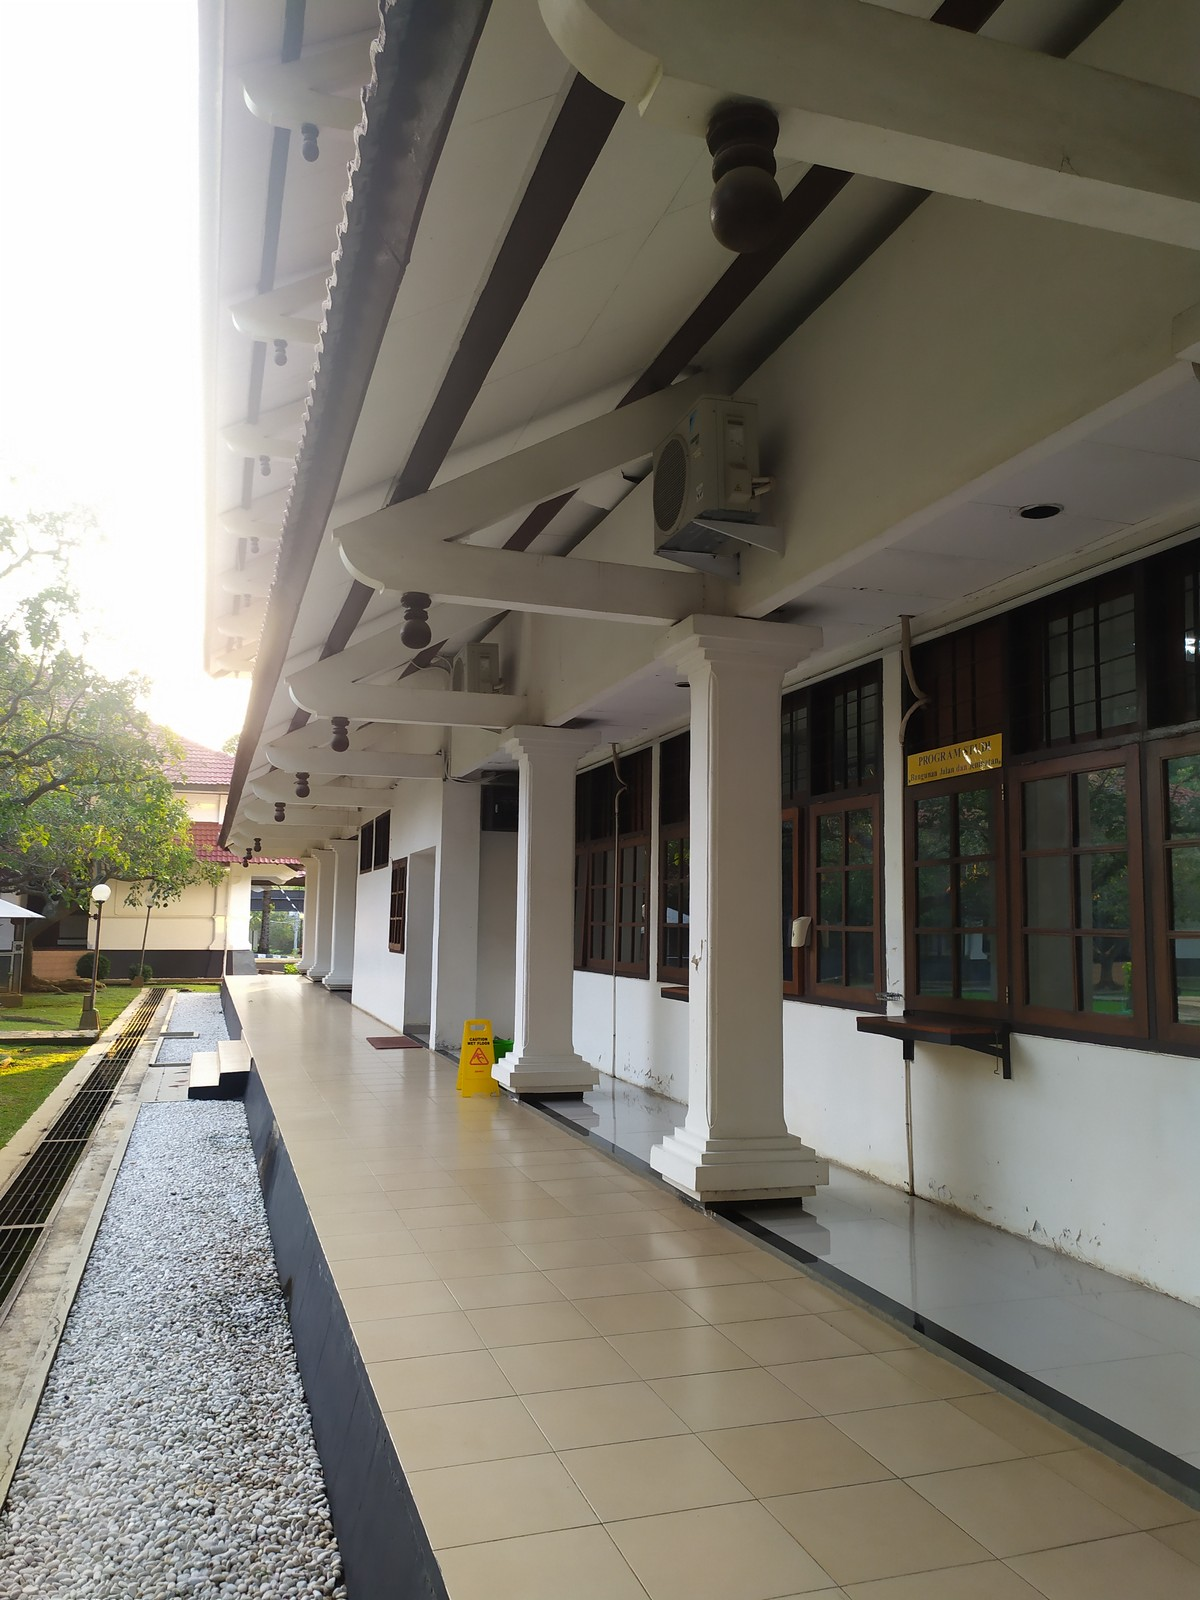concrete beam: (766, 13, 1200, 241), (454, 539, 724, 637), (361, 682, 539, 741)
concrete column: (677, 656, 800, 1134), (508, 738, 586, 1062), (422, 842, 492, 1053)
